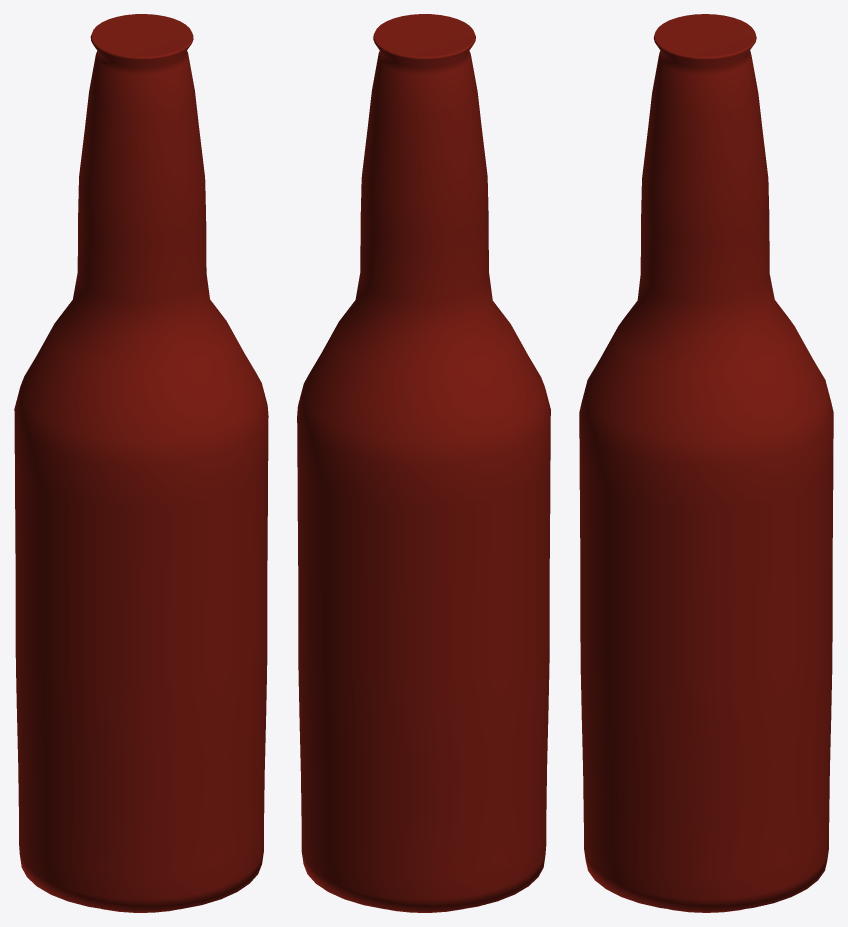
The model's file is bottle2.fbx.
3 renders of one model, left to right at view 1: azimuth 30°, elevation 25°; view 2: azimuth 150°, elevation 25°; view 3: azimuth 270°, elevation 25°, orthographic.
Parts seen in each view (by area): view 1: Cylinder.001; view 2: Cylinder.001; view 3: Cylinder.001.
Part boxes in pixels (left/top/right/bottom): Cylinder.001: left=14, top=14, right=268, bottom=912; Cylinder.001: left=297, top=14, right=550, bottom=912; Cylinder.001: left=579, top=14, right=833, bottom=912.
Size of the model in its own units: 46.77 by 172 by 46.77.
